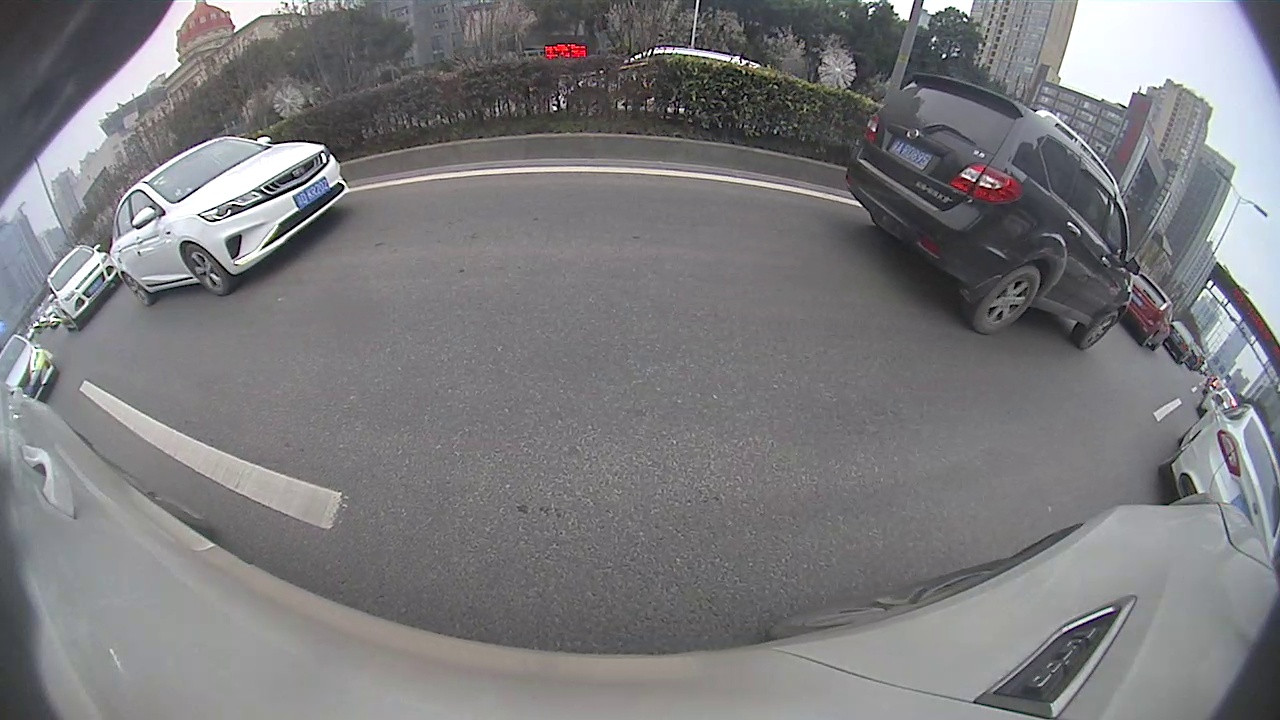car: (844, 71, 1142, 353), (107, 134, 350, 306), (1157, 403, 1278, 568), (46, 245, 122, 335), (1125, 269, 1177, 352), (2, 332, 58, 405)
front: (184, 244, 231, 298), (1076, 311, 1116, 350)
rear: (971, 264, 1042, 335), (127, 273, 153, 307)
